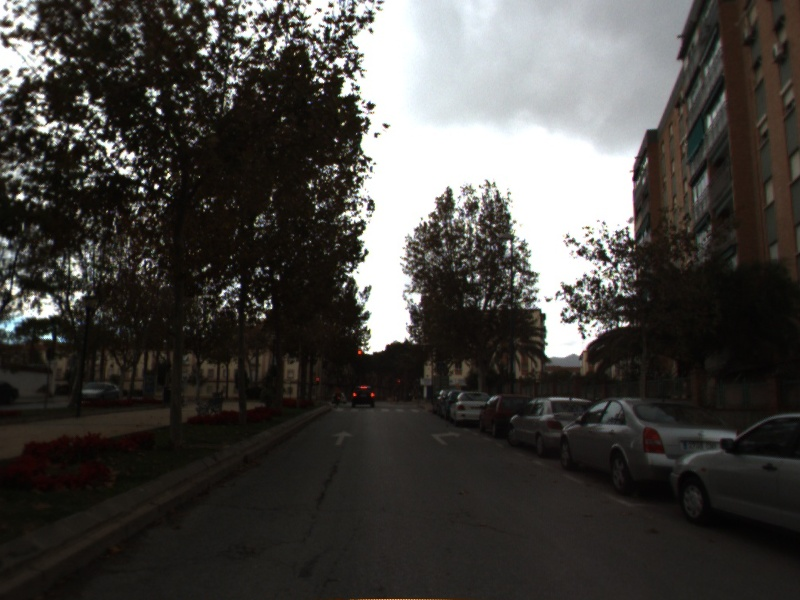RIGHT: (428, 429, 464, 447)
STRAIGHT: (330, 429, 356, 447)
